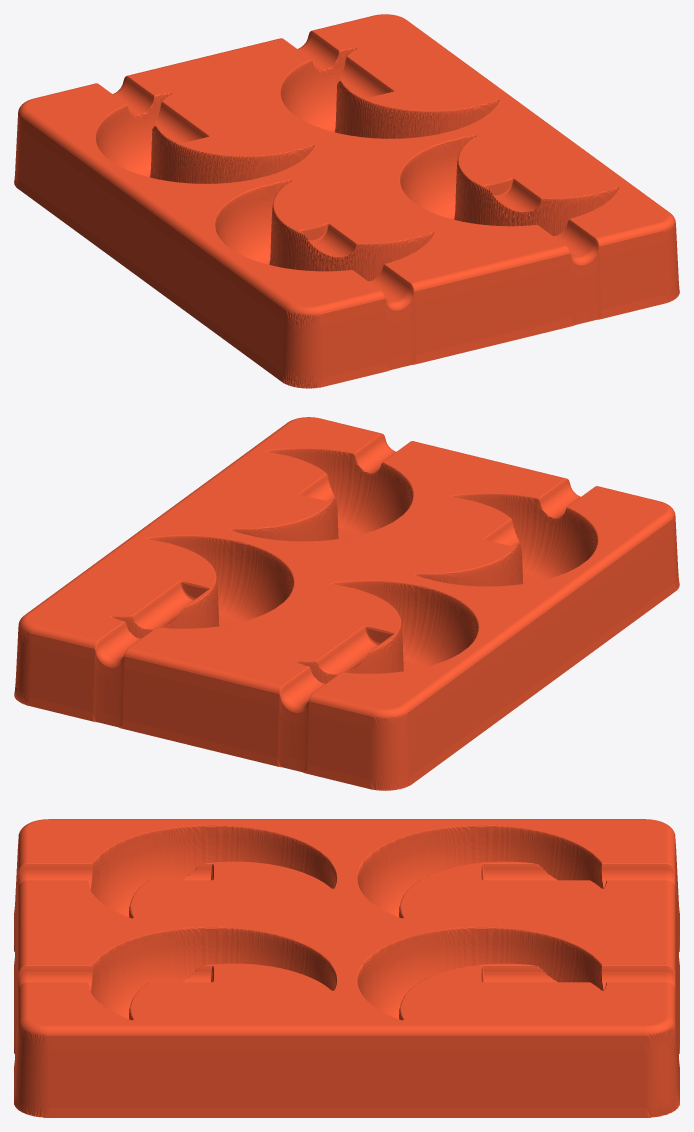
File: mold.glb
3 views of the same model, one above another, from view 1: azimuth 30°, elevation 25°; view 2: azimuth 150°, elevation 25°; view 3: azimuth 270°, elevation 25° (orthographic). The views are drawn at different scales.
Parts seen in each view (by area): view 1: geometry_0; view 2: geometry_0; view 3: geometry_0.
Part boxes in pixels (x1,y1,x2,y2): geometry_0: (14, 14, 679, 388); geometry_0: (14, 417, 679, 790); geometry_0: (14, 819, 679, 1117).
Size of the model in its own units: 0.132 by 0.0245 by 0.171.
